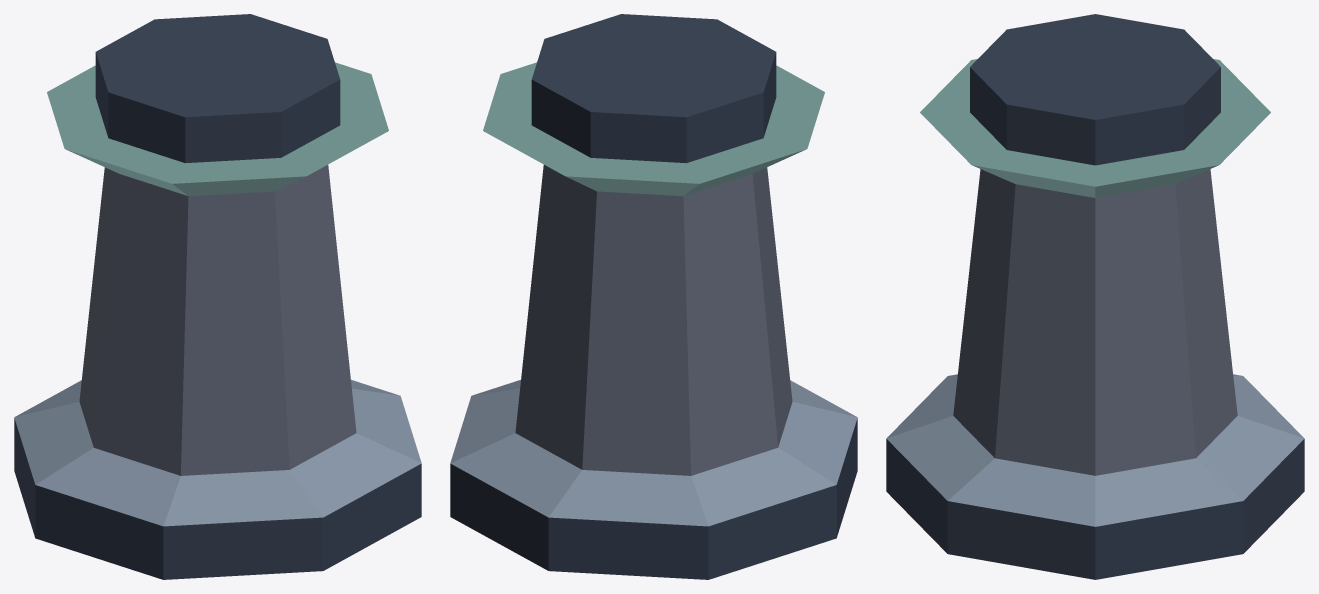
Rendered from beacon-idle.glb.
3 views of the same model, side by side, from view 1: azimuth 30°, elevation 25°; view 2: azimuth 150°, elevation 25°; view 3: azimuth 270°, elevation 25° (orthographic).
Visible parts, largest first — view 1: beacon-idle__body; view 2: beacon-idle__body; view 3: beacon-idle__body.
Boxes of the visible parts, x1,y1,x2,y2 form: beacon-idle__body: (14,14,421,579); beacon-idle__body: (450,14,857,579); beacon-idle__body: (886,14,1304,579).
Size of the model in its own units: 1 by 1.12 by 1.
